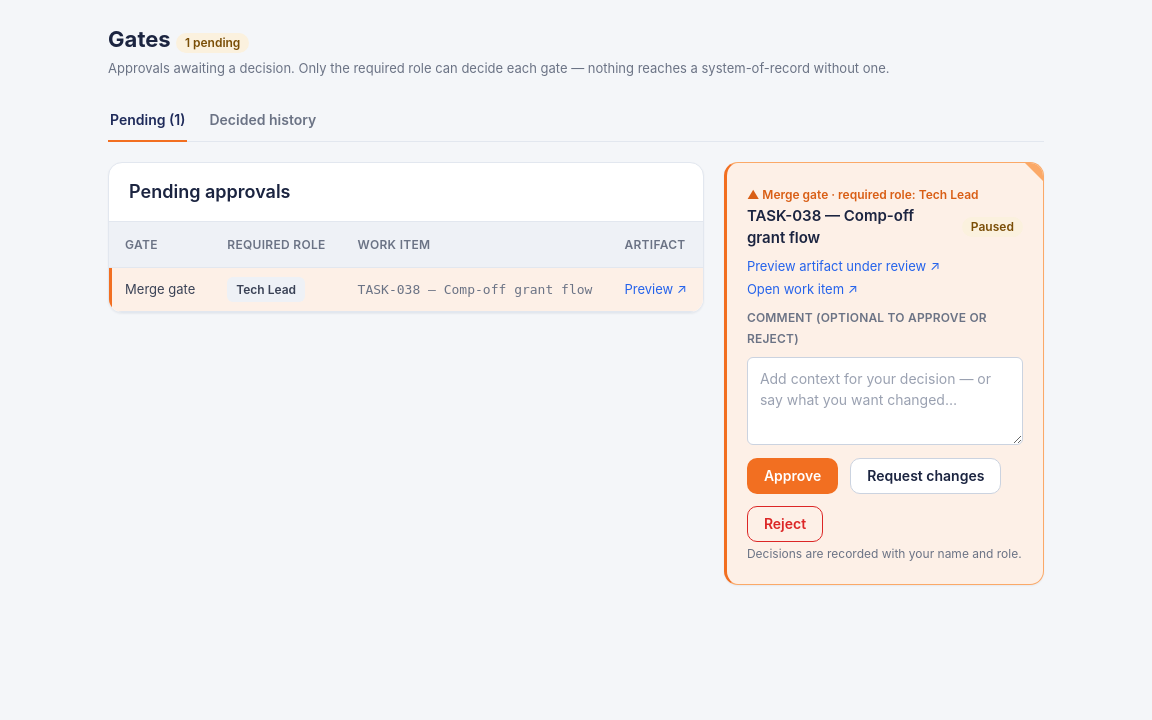
the approvals screen › confirms the decision in one sentence, naming the gate
What coordinates should you click on to do the following:
click the button "Approve"
I would click on:
 (793, 476)
Its box is [747,458,838,494].
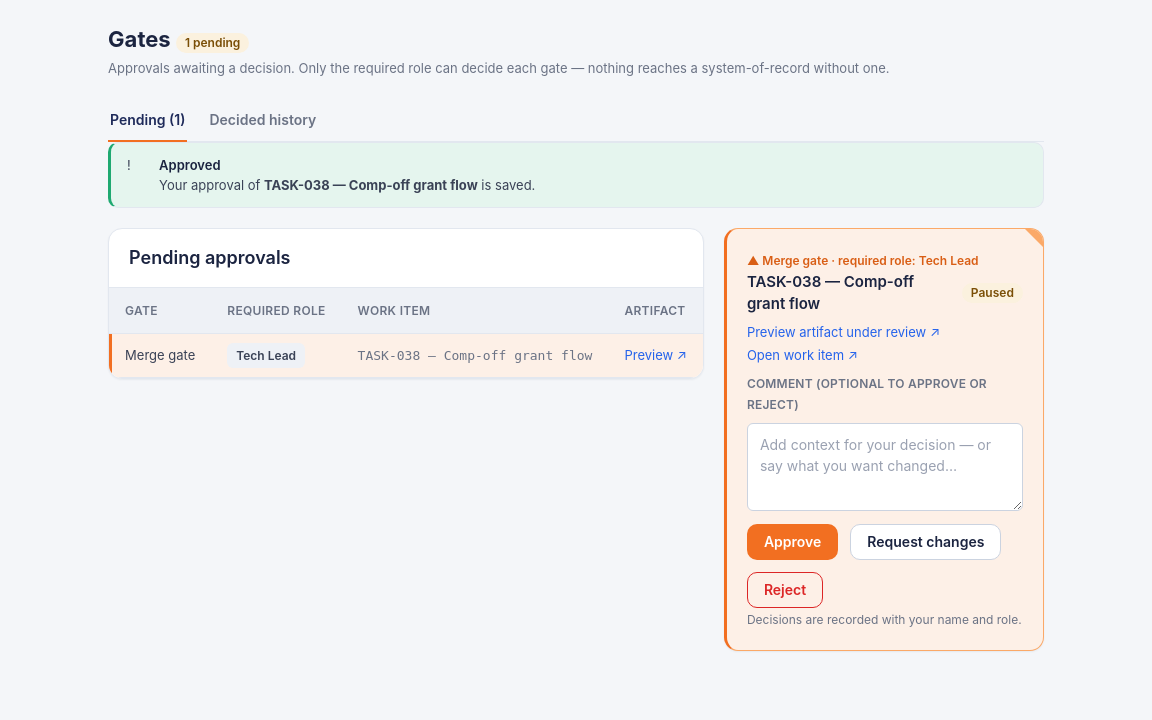
Expected: the text "Approved" is shown, [159,157,220,173]
Expected: the text "Your approval of TASK-038 — Comp-off grant flow is saved." is shown, [159,177,535,193]
Expected: the text "TASK-038 — Comp-off grant flow" next to "Your approval of" is shown, [264,177,478,193]
